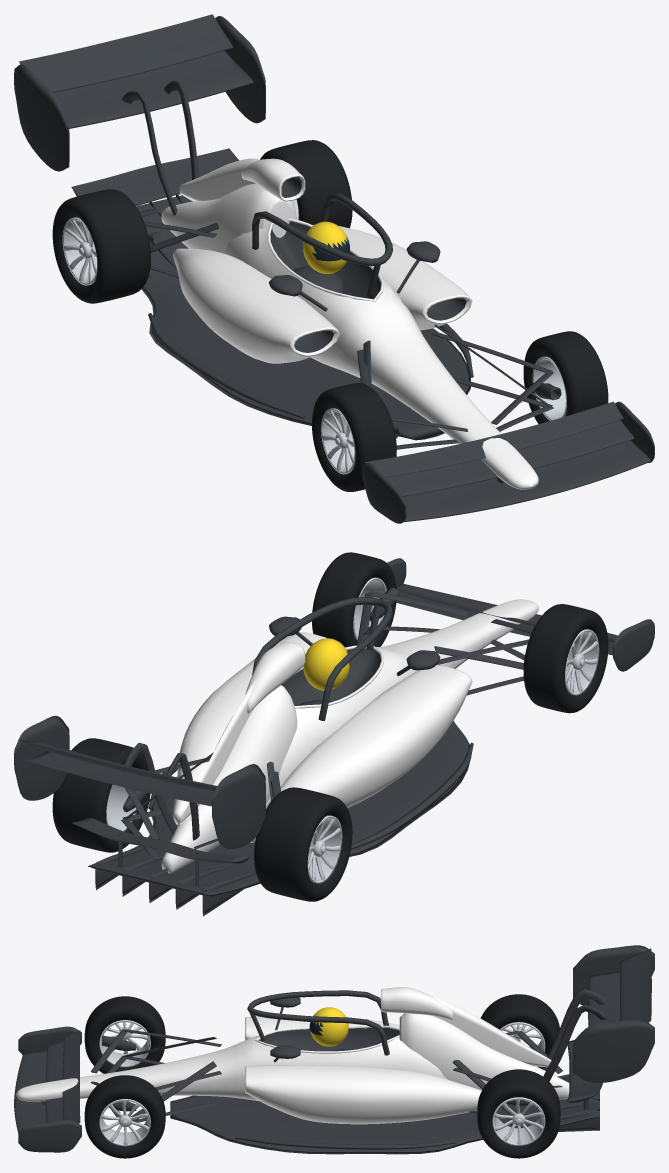
3 renders of one model, top to bottom at view 1: azimuth 30°, elevation 25°; view 2: azimuth 150°, elevation 25°; view 3: azimuth 270°, elevation 25°, orthographic. The views are drawn at different scales.
Parts seen in each view (by area): view 1: carbon, body, tyre (×4), rim (×3), helmet; view 2: carbon, body, tyre (×4), rim (×4), helmet; view 3: carbon, body, tyre (×4), rim (×4), helmet.
Boxes of the visible parts, x1=… form: carbon: x1=14, y1=14, x2=654, y2=523; body: x1=161, y1=158, x2=538, y2=489; tyre (×4): x1=52, y1=140, x2=608, y2=491; rim (×3): x1=62, y1=217, x2=566, y2=474; helmet: x1=303, y1=221, x2=348, y2=273; carbon: x1=14, y1=558, x2=654, y2=916; body: x1=161, y1=599, x2=538, y2=873; tyre (×4): x1=52, y1=552, x2=608, y2=901; rim (×4): x1=106, y1=577, x2=599, y2=883; helmet: x1=303, y1=638, x2=349, y2=690; carbon: x1=14, y1=945, x2=654, y2=1154; body: x1=16, y1=987, x2=569, y2=1124; tyre (×4): x1=84, y1=994, x2=560, y2=1158; rim (×4): x1=99, y1=1020, x2=545, y2=1146; helmet: x1=310, y1=1007, x2=348, y2=1046.
Bounding box in the file's own units: 1.99 × 1.29 × 5.7.
